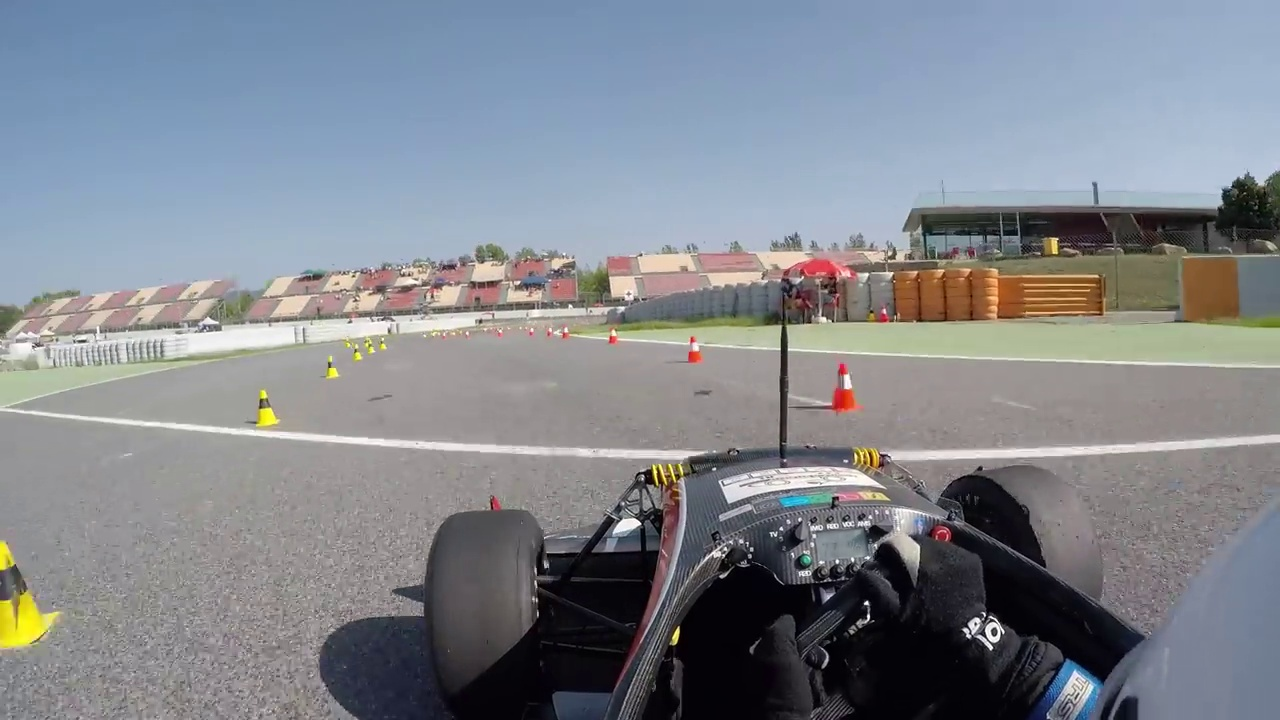Cone: (1, 536, 67, 650), (827, 361, 865, 413), (254, 388, 279, 427), (686, 332, 706, 364)
